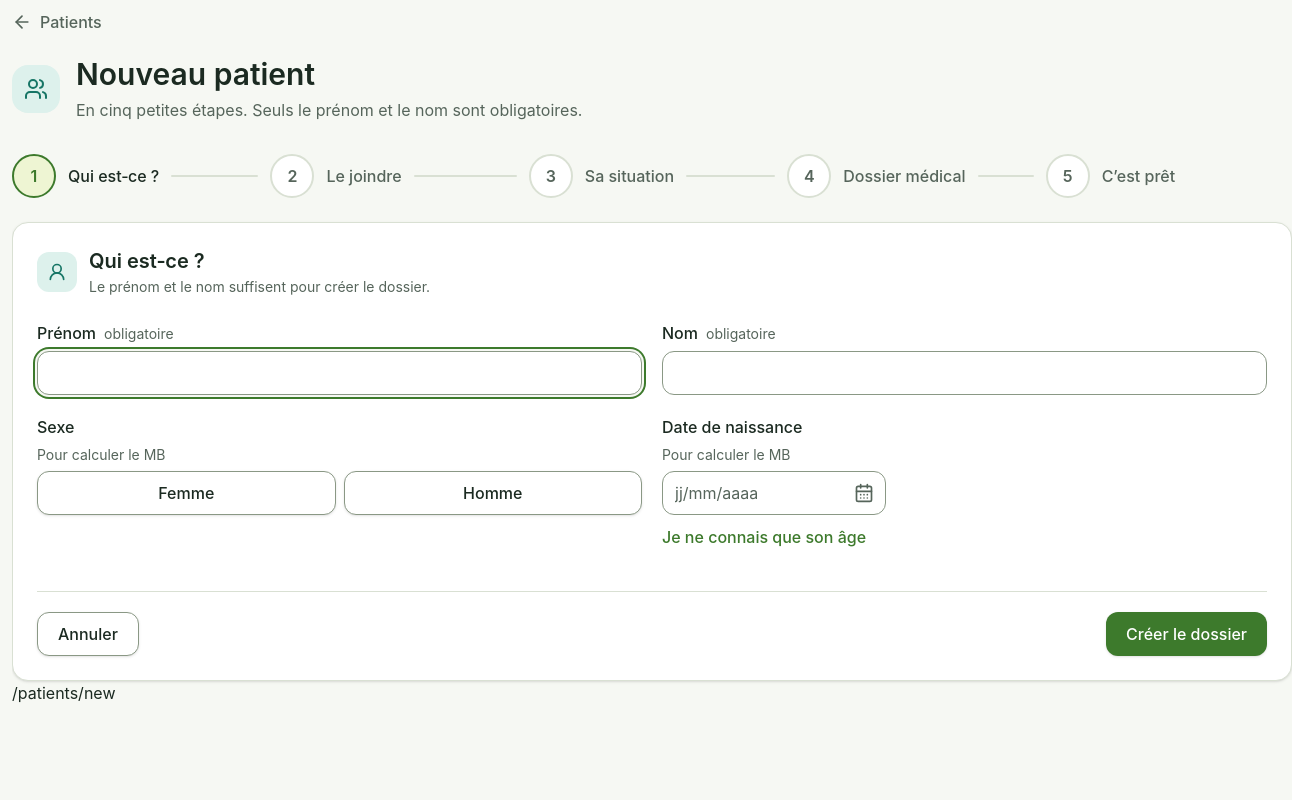
Test: PatientNewPage (new patient wizard) › asks for the first and last name only, then creates the patient at the end of step 1
Check: the text "obligatoire" is shown 2 times, box [104,324,174,344]; [706,324,776,344]
Click the button "Créer le dossier": (1186,634) [1106,612,1267,656]
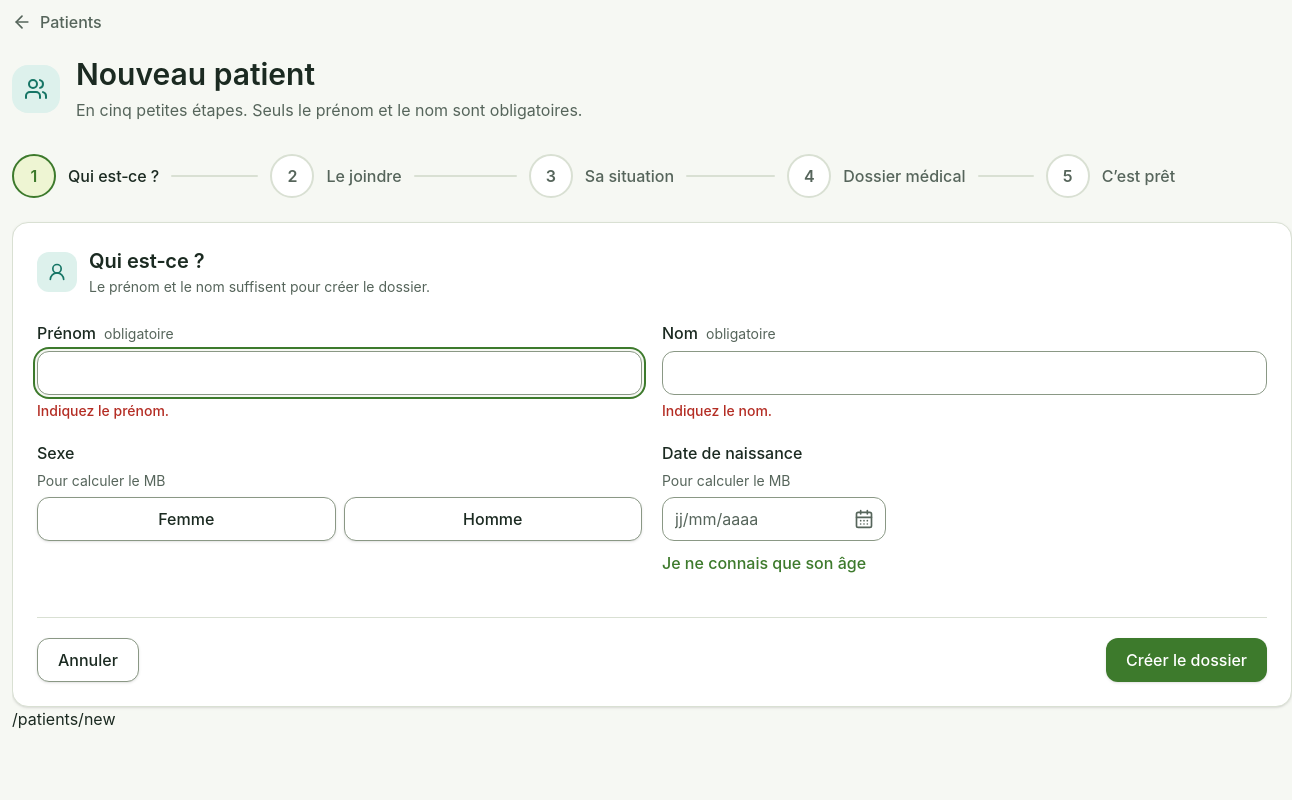
Check: the text "Indiquez le prénom." is shown, box [37,402,169,418]
Check: the text "Indiquez le nom." is shown, box [662,402,772,418]
In the field labelled "Prénom obligatoire": (340,372) [37,350,642,394], type " Claire "
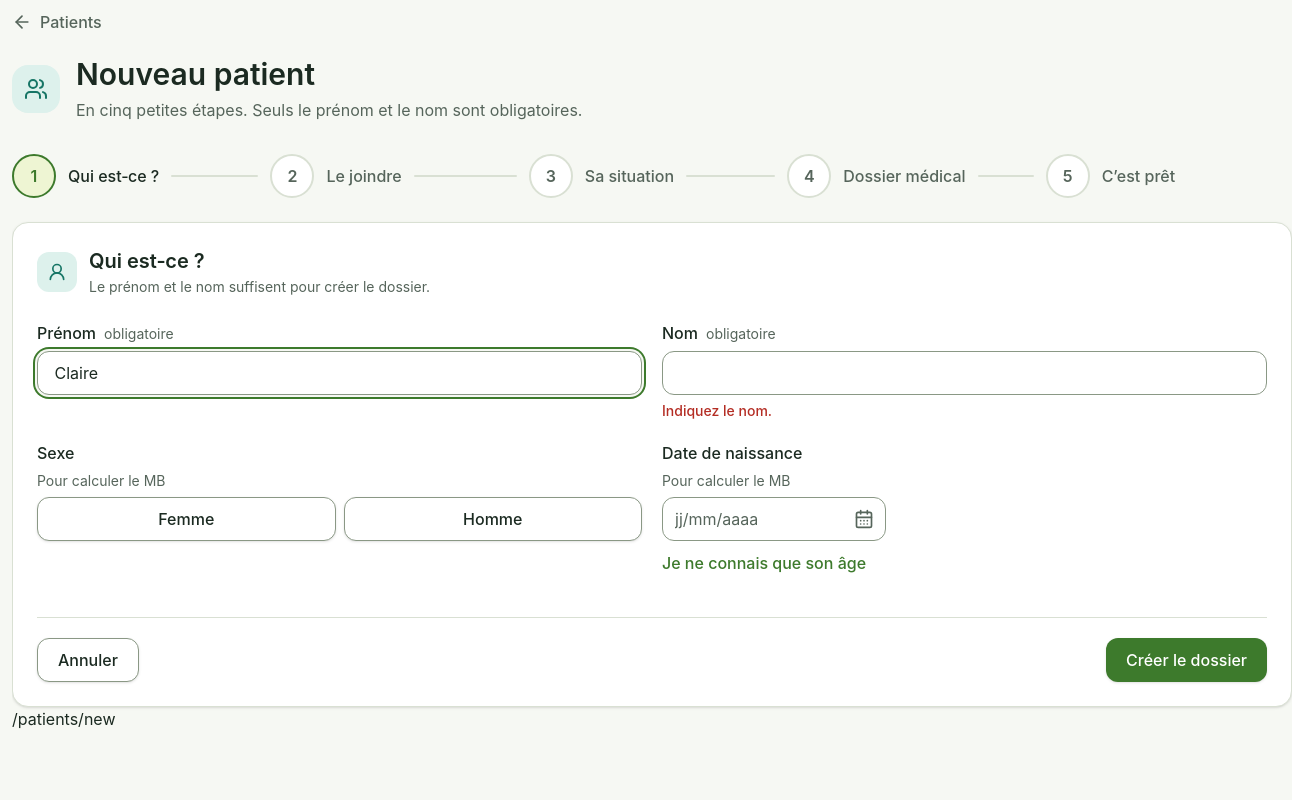
In the field labelled "Nom obligatoire": (964,372) [662,350,1267,394], type "Martin"
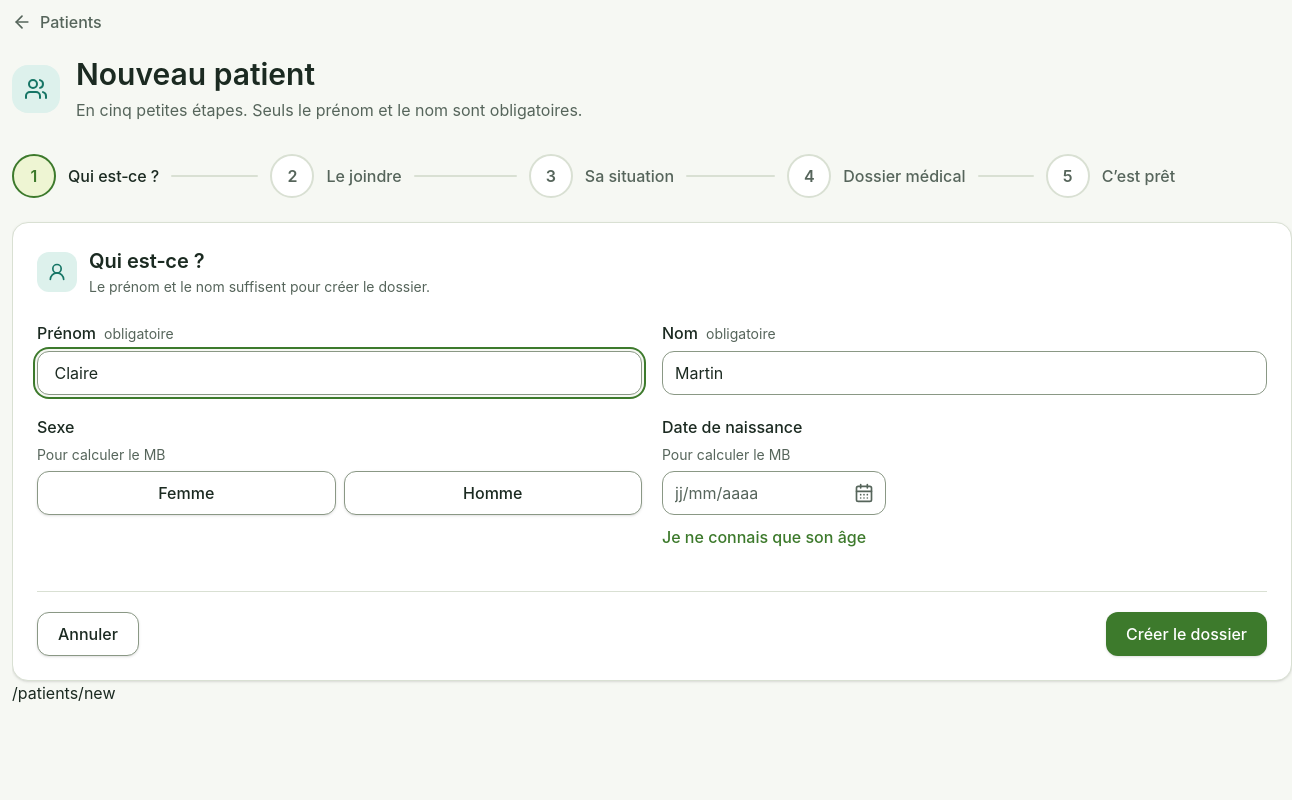
Click the button "Créer le dossier": (1186,634) [1106,612,1267,656]
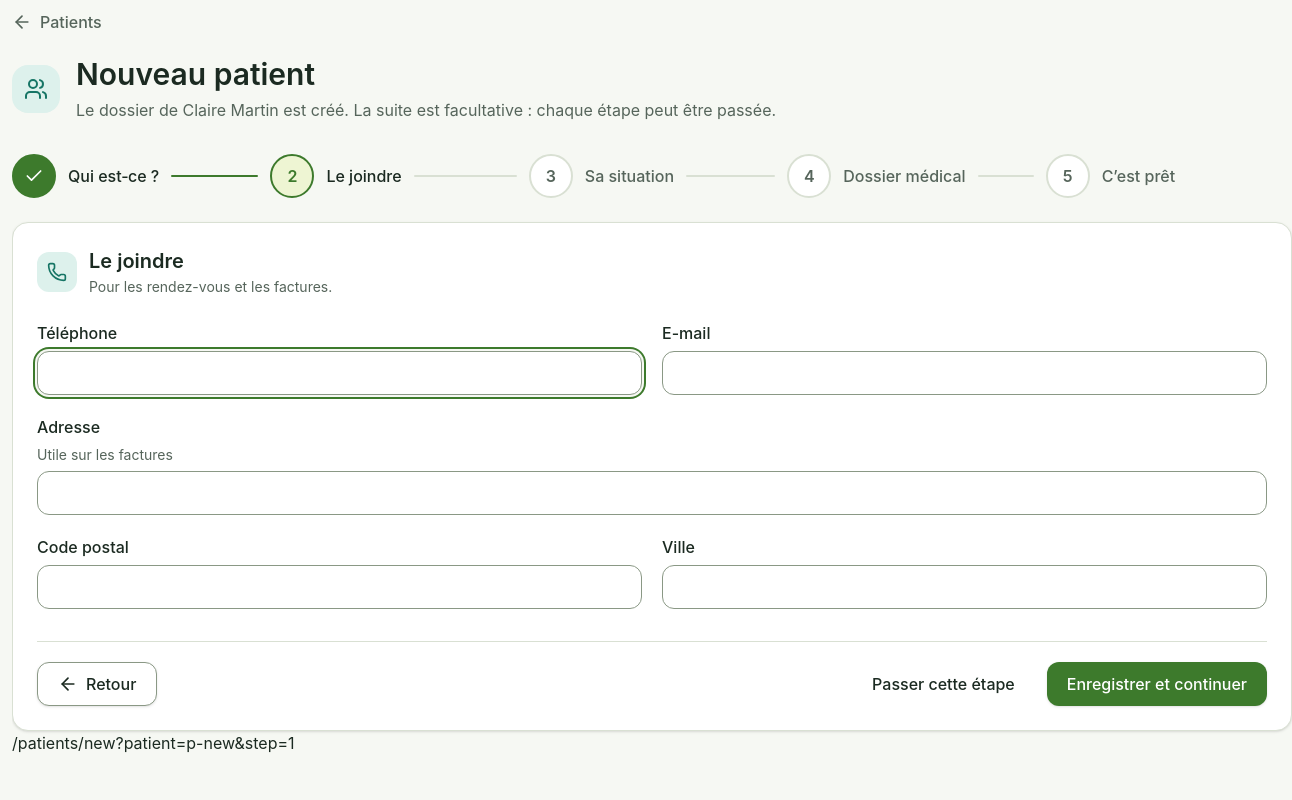
Check: the text "Le dossier de Claire Martin est créé" is shown, box [76,100,776,120]
